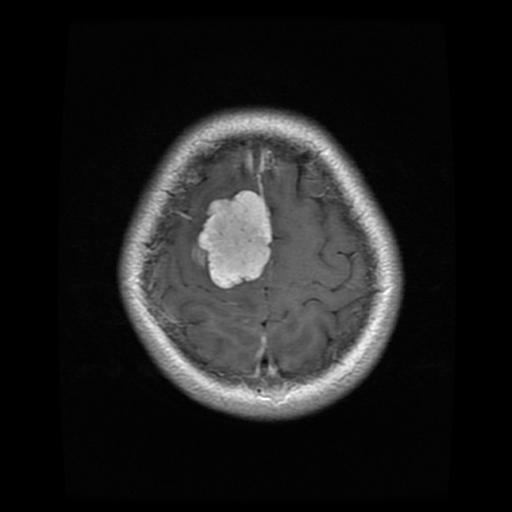Menigiomia_tumour: (196, 190, 272, 288)
